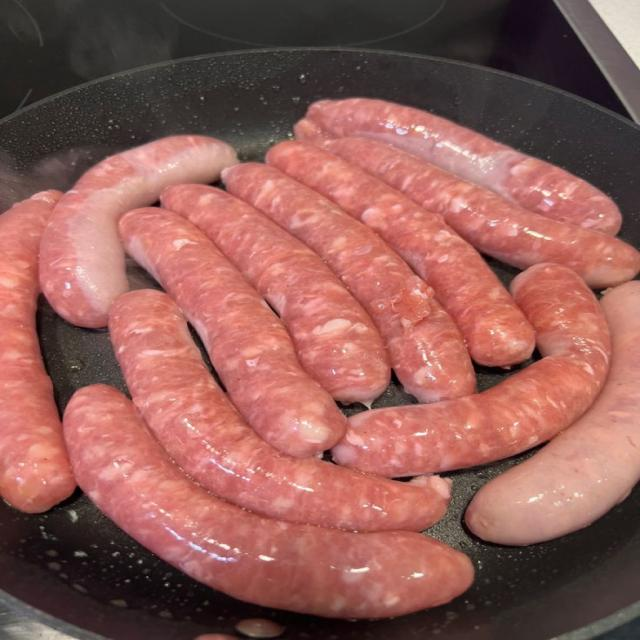sausage: (64, 385, 473, 618), (109, 290, 450, 531), (223, 164, 475, 402), (267, 141, 533, 366), (333, 264, 610, 476), (120, 208, 346, 456), (161, 184, 390, 405), (322, 138, 639, 287), (466, 282, 639, 545), (295, 98, 621, 234), (40, 136, 237, 328), (0, 191, 75, 512)
